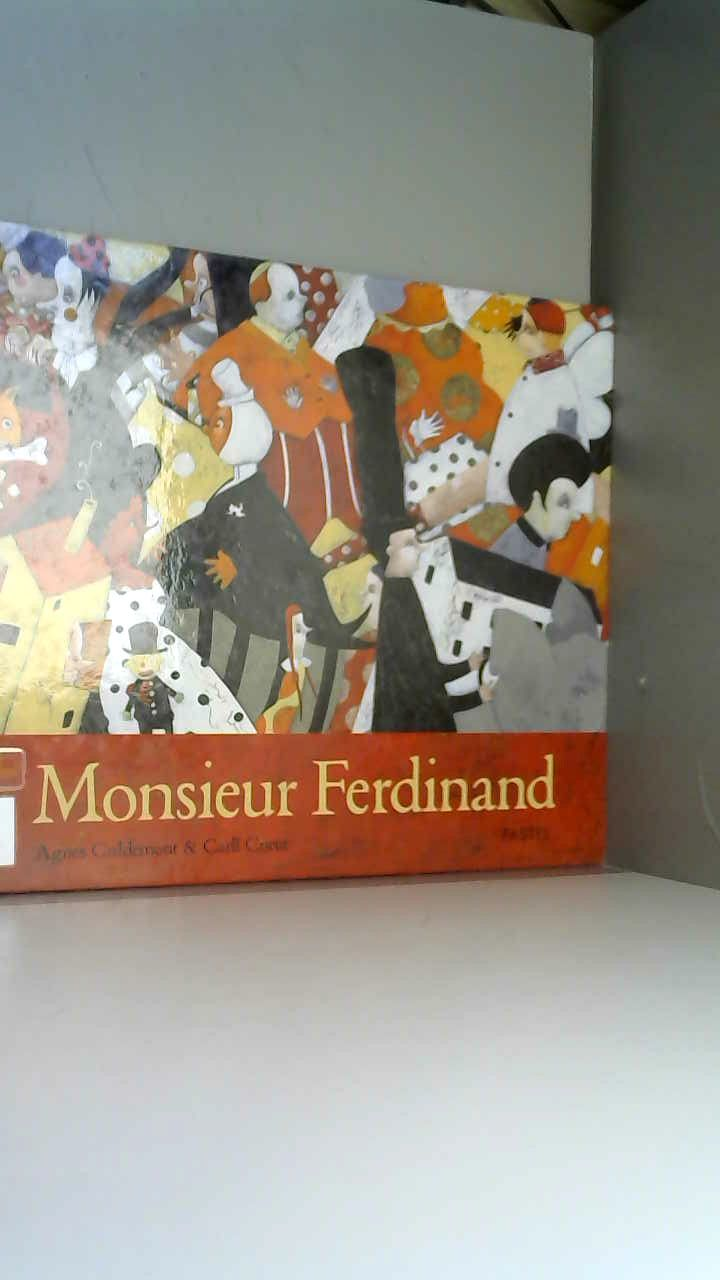book: (0, 181, 662, 935)
